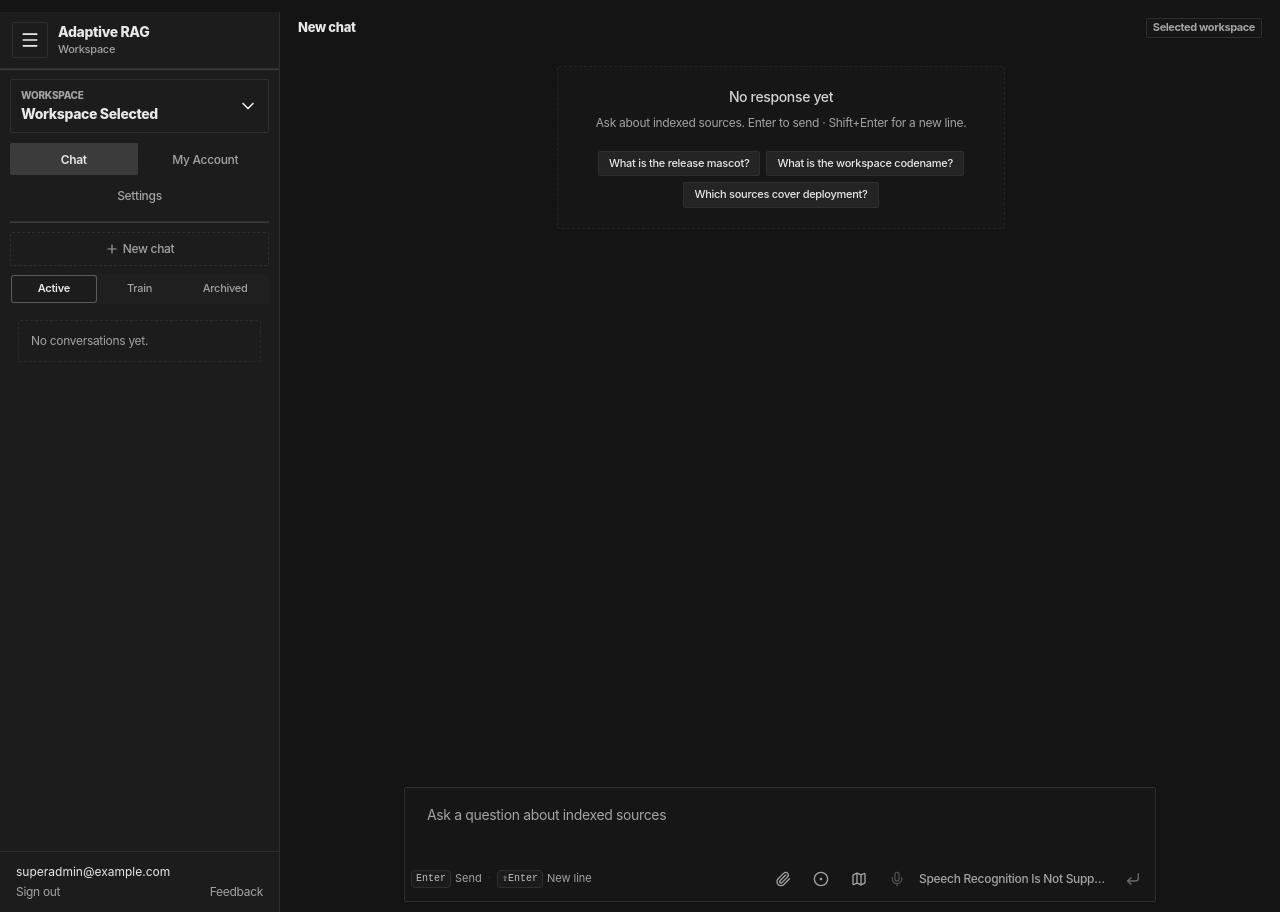
Test: App chat workspace › shows settings modules and submodules in the sidebar
Step 1. Click the button "Settings" → (140, 195), box x1=10 y1=179 x2=269 y2=211
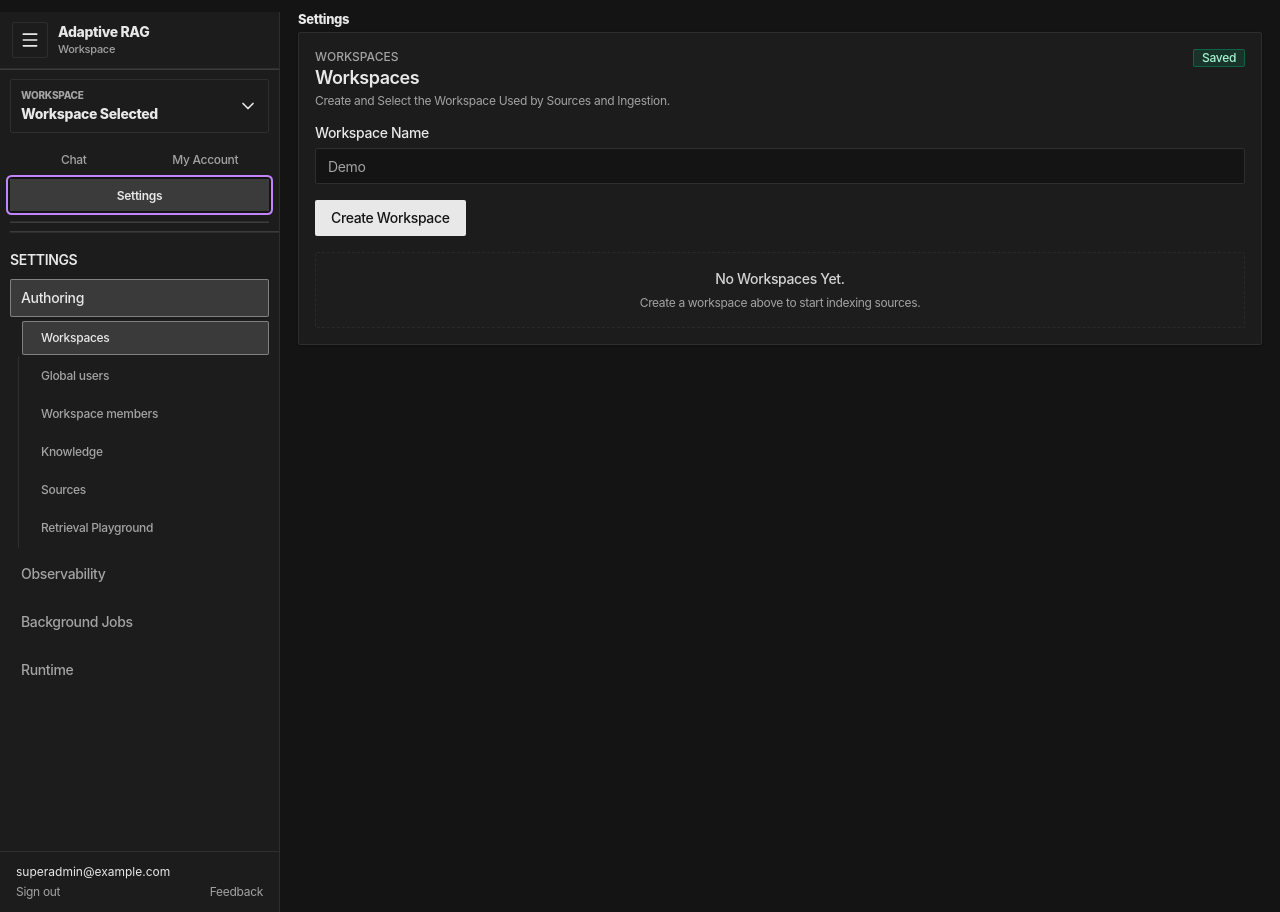
Result: the button "Authoring" is shown at x1=10 y1=279 x2=269 y2=317
Result: the button "Workspaces" is shown at x1=22 y1=321 x2=269 y2=355
Result: the button "Global users" is shown at x1=22 y1=359 x2=269 y2=393
